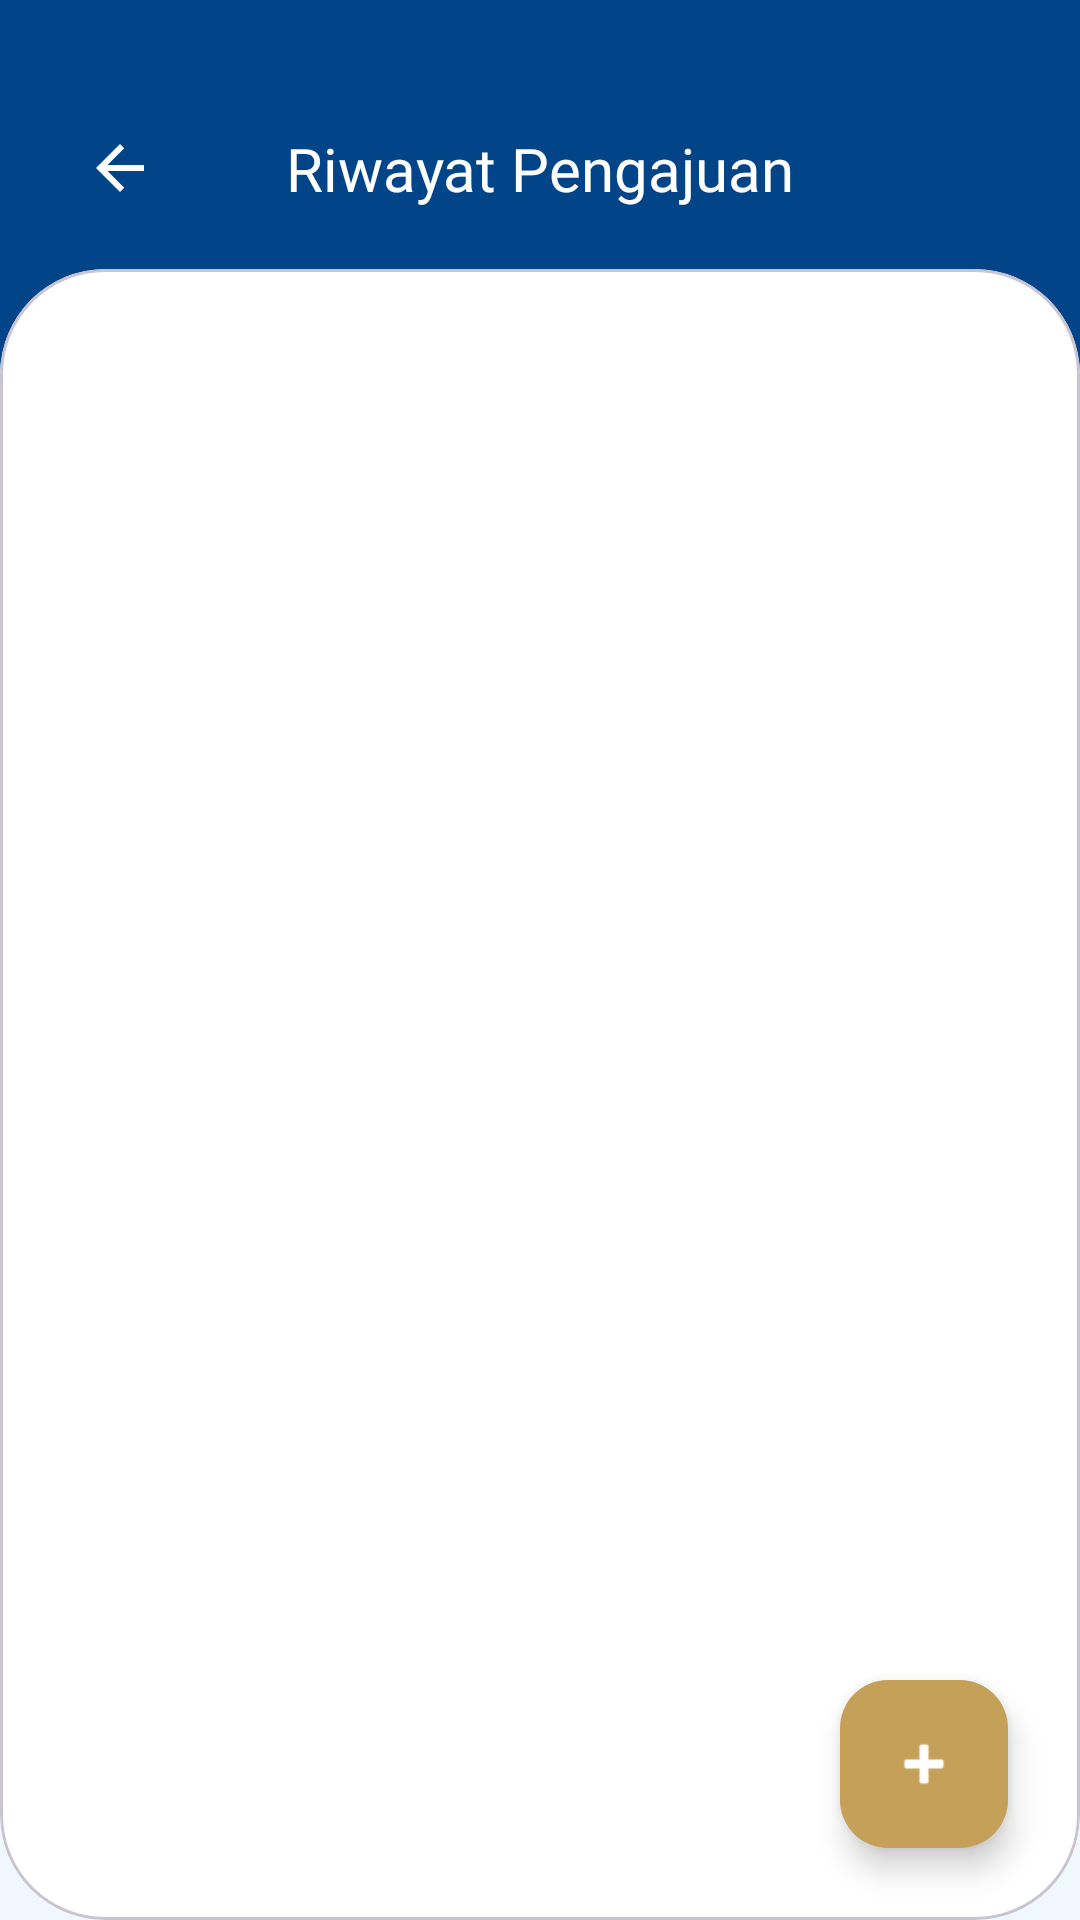

Icon click points for this 1080×1920 phone screenshot, format (x=x, y=y):
add: (x=924, y=1764)
arrow back: (x=120, y=168)
